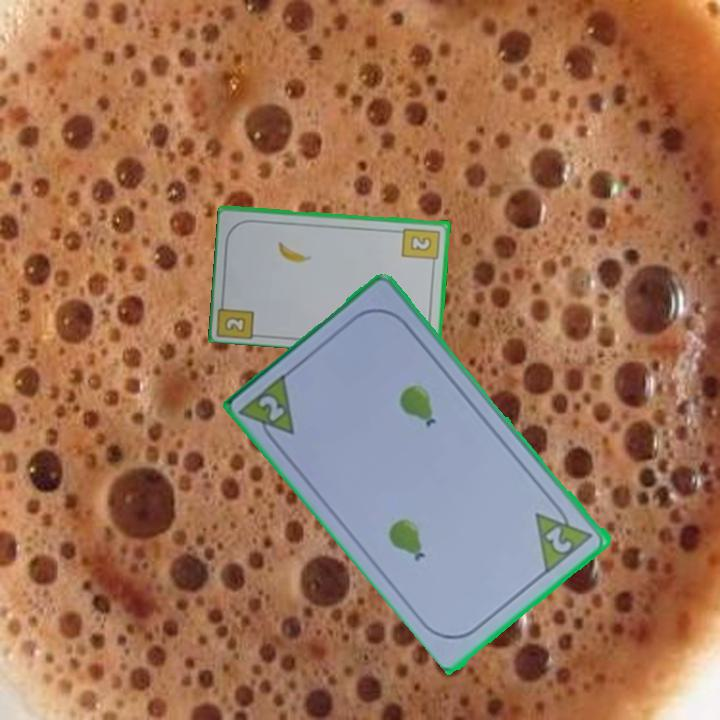2b: (399, 224, 443, 268), (221, 313, 249, 335)
2p: (237, 369, 299, 452), (532, 496, 597, 575)
